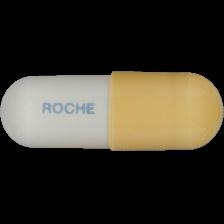0004-0800: (0, 0, 224, 224)
